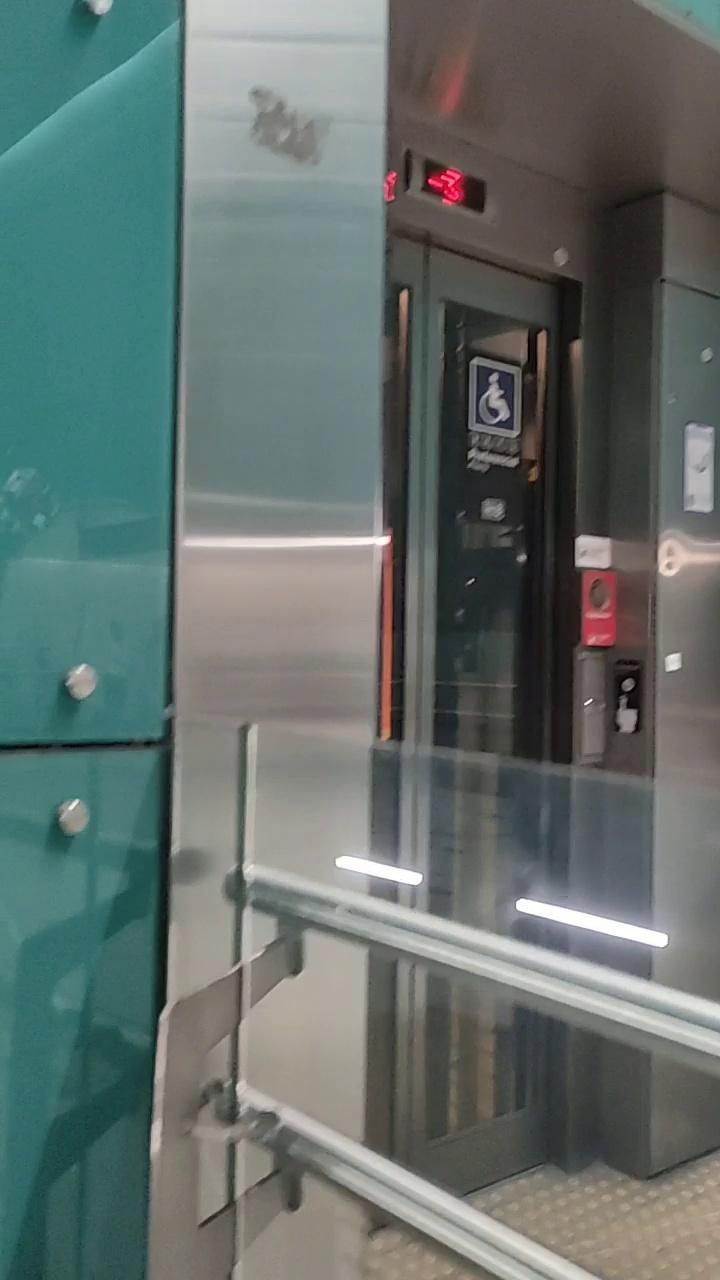handicapped symbol: (467, 355, 527, 440)
